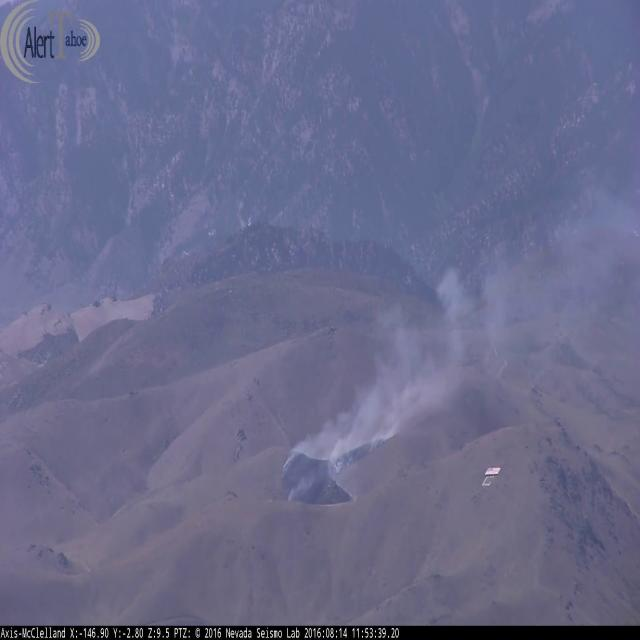smoke: (286, 264, 489, 494), (489, 178, 640, 366)
